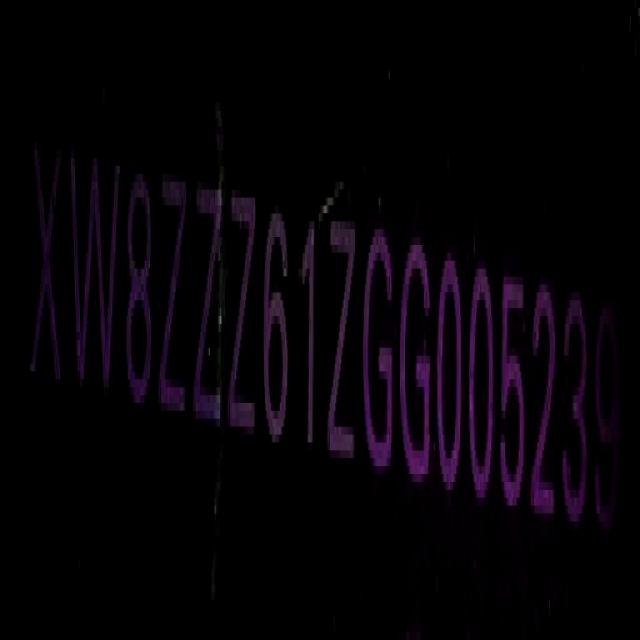0: (467, 245, 496, 507), (438, 238, 464, 498)
1: (301, 191, 321, 468)
2: (532, 266, 558, 526)
3: (563, 288, 590, 538)
5: (501, 250, 529, 516)
6: (263, 190, 292, 456)
8: (128, 152, 154, 420)
9: (596, 294, 623, 541)
G: (362, 202, 395, 484), (400, 222, 434, 492)
W: (68, 119, 118, 413)
X: (30, 128, 64, 408)
Z: (326, 185, 356, 479), (196, 160, 225, 444), (228, 170, 256, 450), (160, 153, 188, 430)
